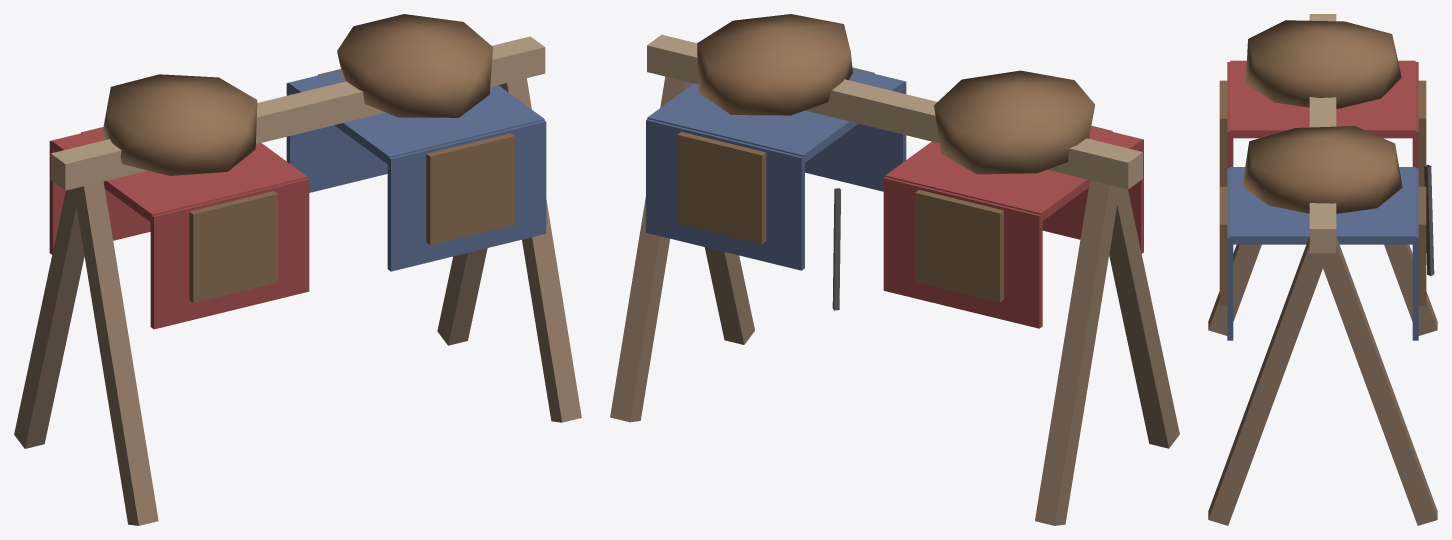
File: SM_BM_BE_SaddleRack.glb
The picture shows the model from 3 angles, left to right: view 1: azimuth 30°, elevation 25°; view 2: azimuth 150°, elevation 25°; view 3: azimuth 270°, elevation 25°; orthographic projection. The views are drawn at different scales.
Visible parts, largest first — view 1: SM_BM_BE_SaddleRack; view 2: SM_BM_BE_SaddleRack; view 3: SM_BM_BE_SaddleRack.
Part boxes in pixels (box(x1,y1,x2,y2)): SM_BM_BE_SaddleRack: box(14, 14, 581, 525); SM_BM_BE_SaddleRack: box(610, 14, 1179, 525); SM_BM_BE_SaddleRack: box(1208, 14, 1437, 525).
Size of the model in its own units: 1.7 by 1.26 by 0.7664.
